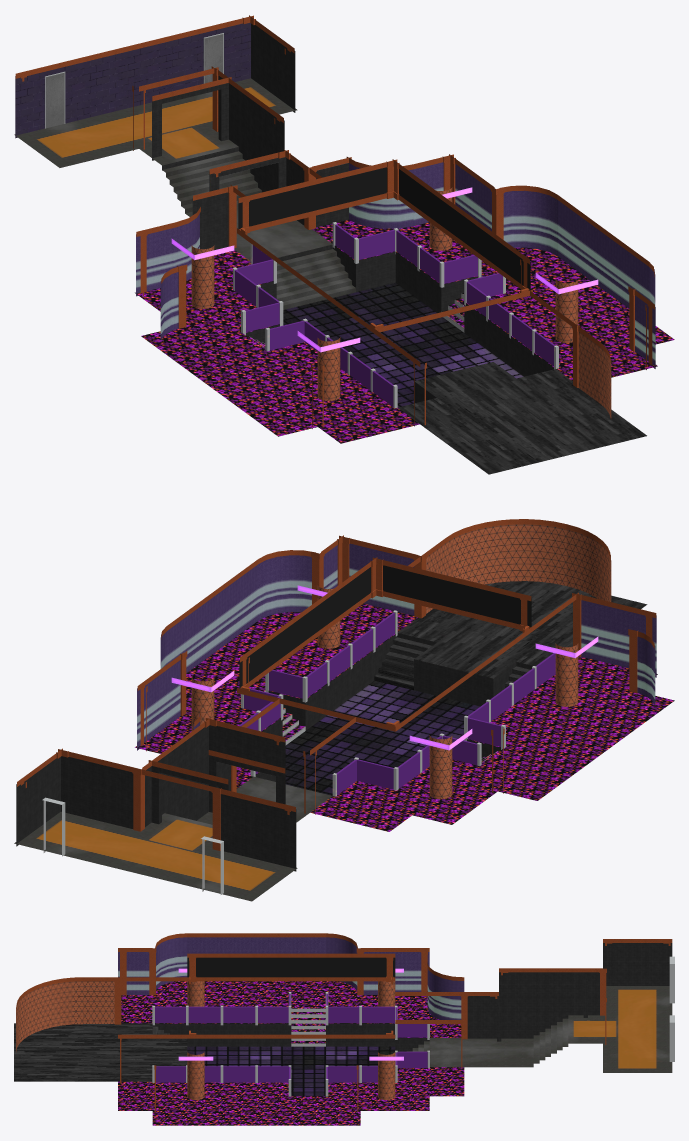
File: nightclub.glb
The picture shows the model from 3 angles, top to bottom: view 1: azimuth 30°, elevation 25°; view 2: azimuth 150°, elevation 25°; view 3: azimuth 270°, elevation 25°; orthographic projection. The views are drawn at different scales.
Visible parts, largest first — view 1: MeshSet2_lambert2_0_0; view 2: MeshSet2_lambert2_0_0; view 3: MeshSet2_lambert2_0_0.
Part boxes in pixels (box(x1,y1,x2,y2)): MeshSet2_lambert2_0_0: box(14, 15, 674, 474); MeshSet2_lambert2_0_0: box(14, 519, 674, 901); MeshSet2_lambert2_0_0: box(14, 933, 674, 1125).
Bounding box in the file's own units: 20 × 6.27 × 38.15.
2 materials, 2 textured.
